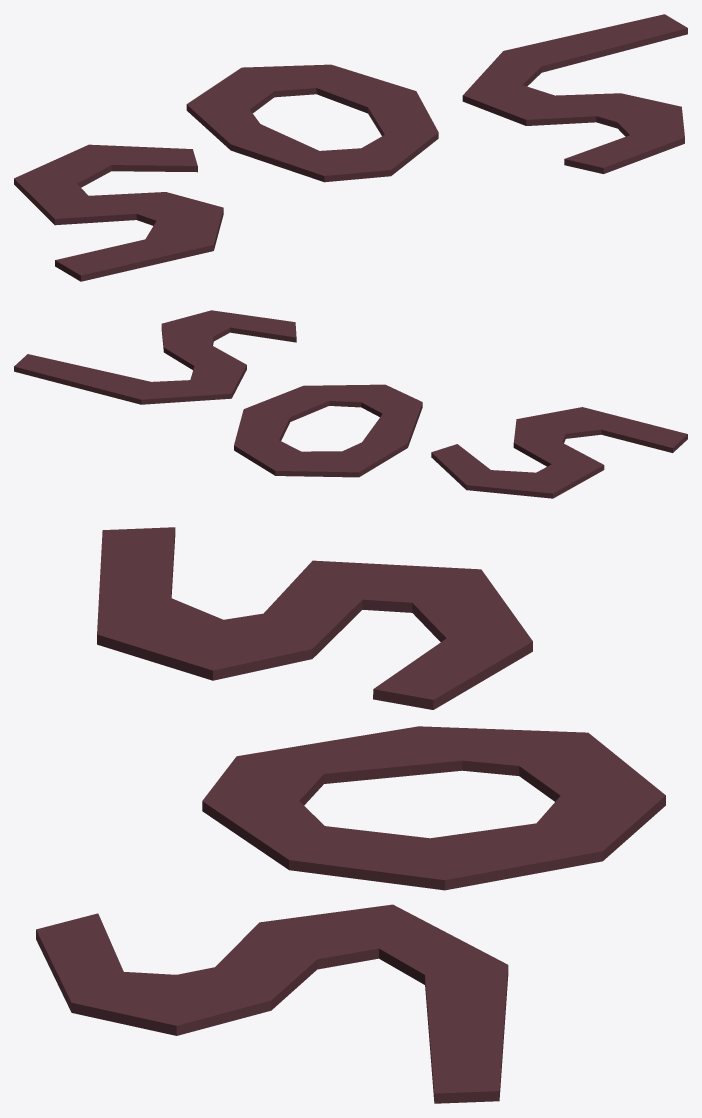
The model's file is sos-ground-apocalypse.fbx.
3 renders of one model, top to bottom at view 1: azimuth 30°, elevation 25°; view 2: azimuth 150°, elevation 25°; view 3: azimuth 270°, elevation 25°, orthographic. The views are drawn at different scales.
Visible parts, largest first — view 1: sos-ground-apocalypse; view 2: sos-ground-apocalypse; view 3: sos-ground-apocalypse.
Part boxes in pixels (x1,y1,x2,y2): sos-ground-apocalypse: (14,14,687,281); sos-ground-apocalypse: (14,310,687,498); sos-ground-apocalypse: (36,527,665,1103).
Size of the model in its own units: 7.11 by 0.0596 by 3.34.
